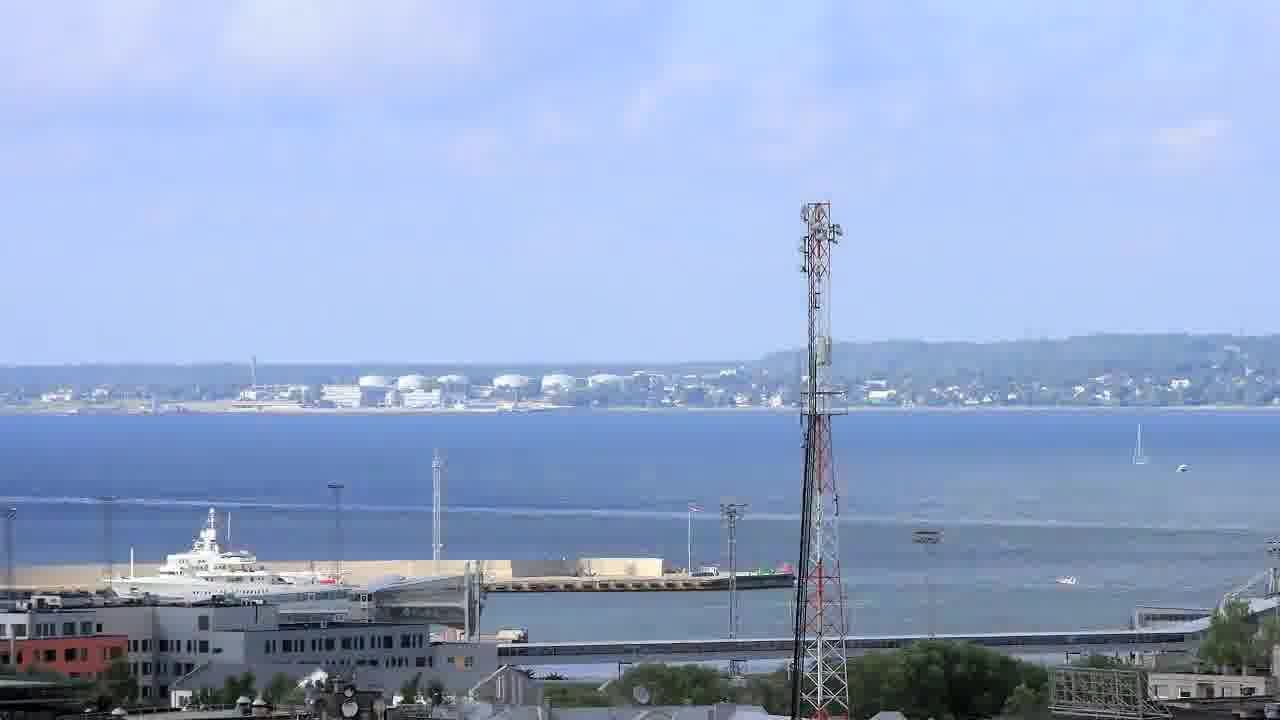type-3: (96, 508, 381, 605)
type-4: (1036, 554, 1090, 616), (1166, 421, 1205, 487), (1120, 418, 1154, 476)
